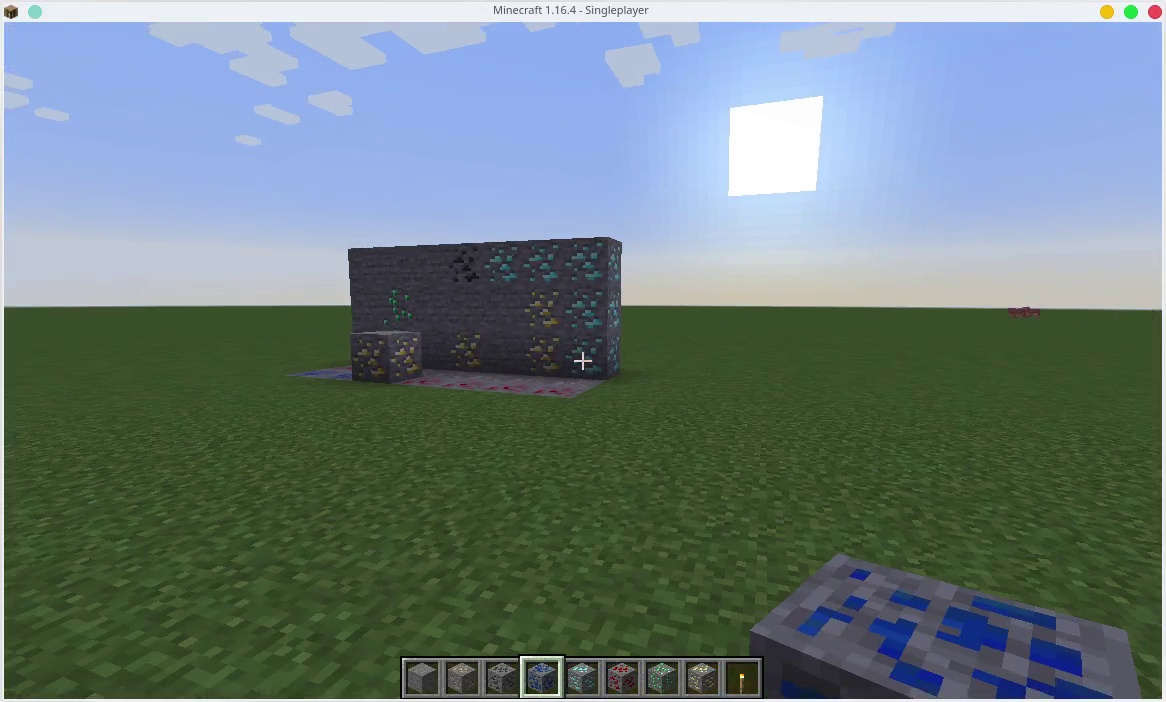gold: (354, 330, 419, 380), (520, 289, 559, 330), (442, 334, 481, 373), (521, 338, 560, 371)
